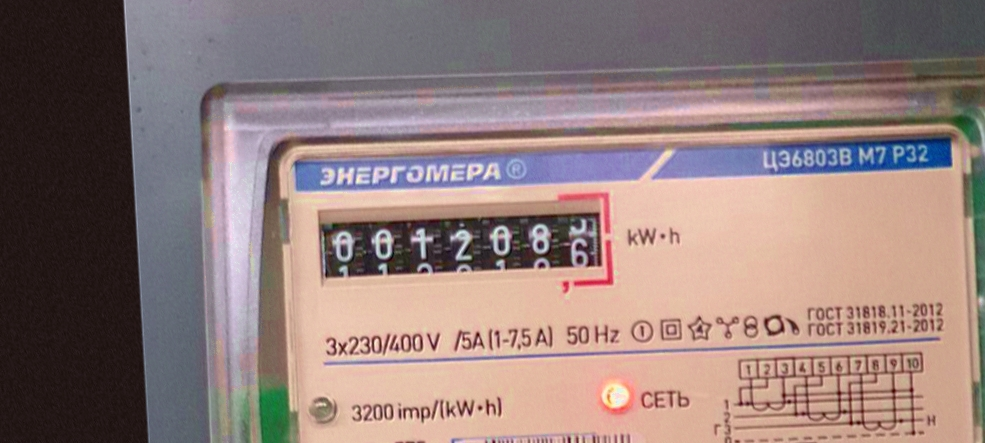0: (489, 221, 516, 258), (372, 224, 397, 262), (334, 226, 356, 264)
1: (413, 224, 432, 262)
2: (450, 226, 478, 263)
6: (568, 233, 592, 269)
8: (528, 220, 553, 257)
screen: (307, 181, 625, 316)
